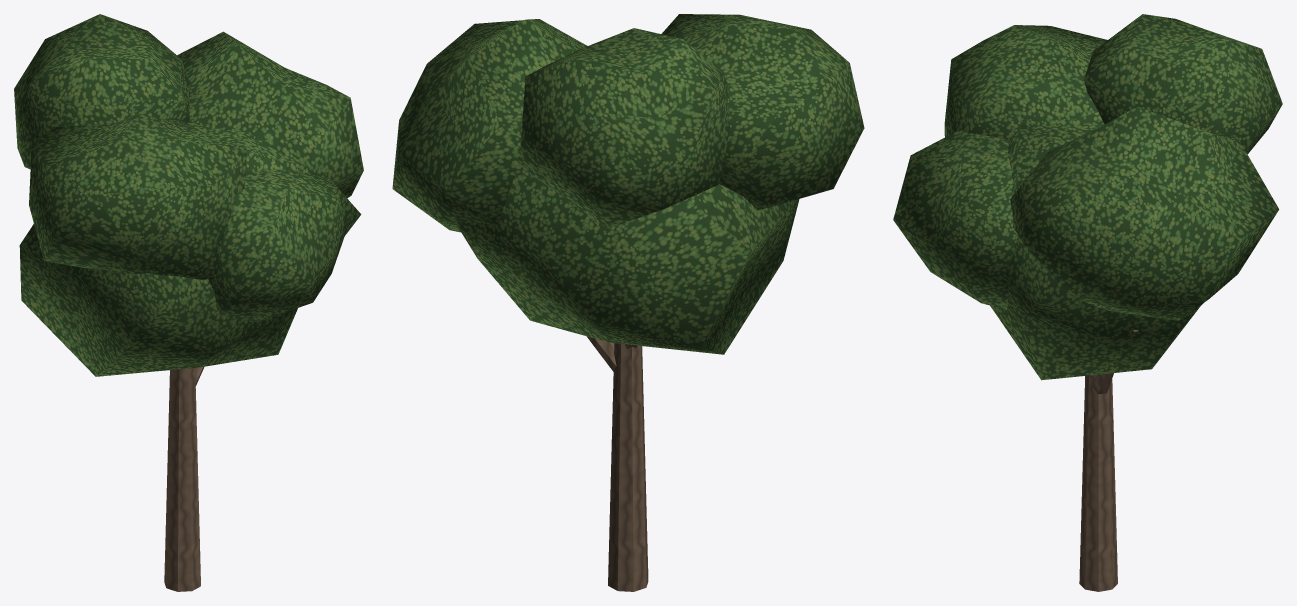
File: tree.glb
3 renders of one model, left to right at view 1: azimuth 30°, elevation 25°; view 2: azimuth 150°, elevation 25°; view 3: azimuth 270°, elevation 25°, orthographic. The views are drawn at different scales.
Visible parts, largest first — view 1: Tree_Mesh; view 2: Tree_Mesh; view 3: Tree_Mesh.
Part boxes in pixels (<box>): Tree_Mesh: <box>14,14,363,591</box>; Tree_Mesh: <box>392,14,864,591</box>; Tree_Mesh: <box>893,14,1282,591</box>.
Size of the model in its own units: 4.2 by 6.11 by 4.04.
2 materials, 2 textured.
